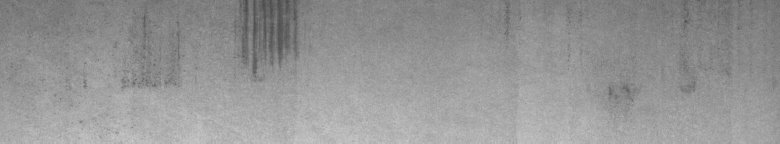ka: (242, 4, 300, 78)
